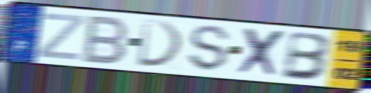B: (280, 30, 334, 82), (80, 14, 132, 66)
D: (135, 18, 187, 69)
S: (188, 24, 232, 73)
X: (236, 26, 289, 79)
Z: (35, 11, 87, 62)
